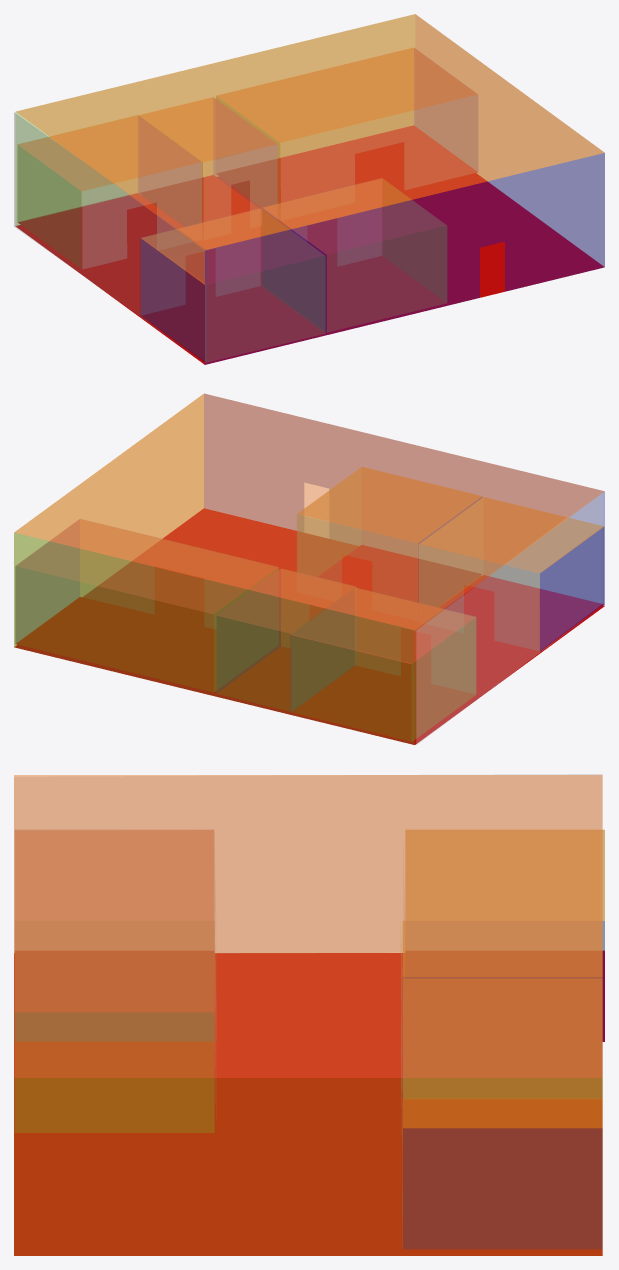
Rendered from testhouse.fbx.
3 views of the same model, one above another, from view 1: azimuth 30°, elevation 25°; view 2: azimuth 150°, elevation 25°; view 3: azimuth 270°, elevation 25° (orthographic). The views are drawn at different scales.
Visible parts, largest first — view 1: right.001, right.009, right.000, right.005, right.003, right.010; view 2: right.001, right.009, right.005, right.000, right.003, right.010; view 3: right.001, right.009, right.003, right.000, right.005, right.010.
Boxes of the visible parts, left/top/right/bottom form: right.001: left=14, top=14, right=604, bottom=364; right.009: left=216, top=48, right=477, bottom=219; right.000: left=141, top=209, right=325, bottom=362; right.005: left=17, top=115, right=201, bottom=269; right.003: left=262, top=178, right=446, bottom=332; right.010: left=139, top=97, right=277, bottom=239; right.001: left=14, top=393, right=604, bottom=744; right.009: left=15, top=519, right=278, bottom=692; right.005: left=290, top=588, right=476, bottom=742; right.000: left=419, top=497, right=604, bottom=651; right.003: left=297, top=467, right=482, bottom=620; right.010: left=217, top=569, right=355, bottom=711; right.001: left=14, top=774, right=602, bottom=1255; right.009: left=401, top=978, right=602, bottom=1249; right.003: left=14, top=921, right=215, bottom=1132; right.000: left=15, top=830, right=215, bottom=1040; right.005: left=404, top=829, right=604, bottom=1041; right.010: left=401, top=921, right=602, bottom=1097.
Size of the model in its own units: 2200 by 600 by 1807.
